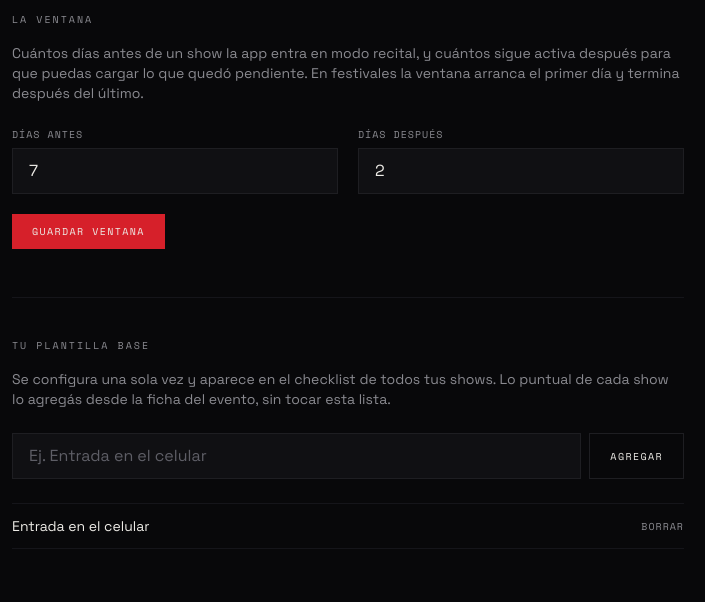
Scenario: ShowModeSettingsForm — la plantilla base › mantiene el ítem en la lista si el borrado falla
The width and height of the screenshot is (705, 602).
Click the button "Borrar": x=663, y=526 [641,518,684,534]
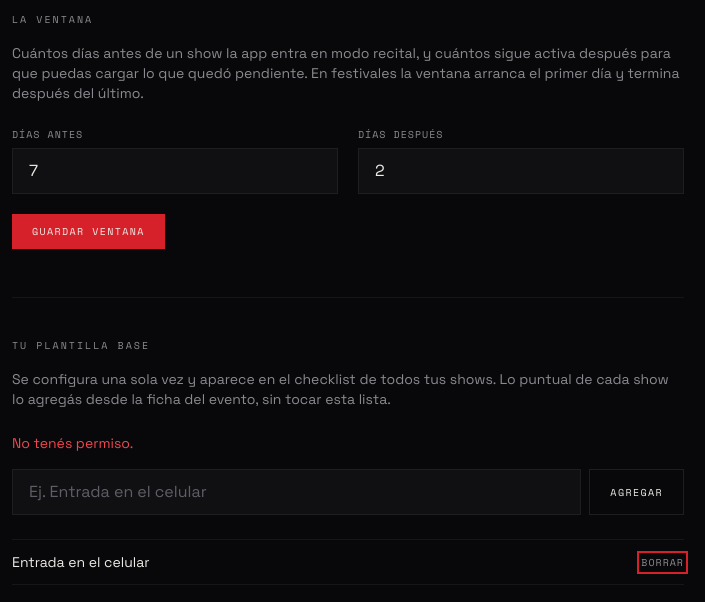
Expected: the text "Entrada en el celular" is shown, [12,552,150,572]
Now the message reads "No tenés permiso.", box [12,434,133,452]
